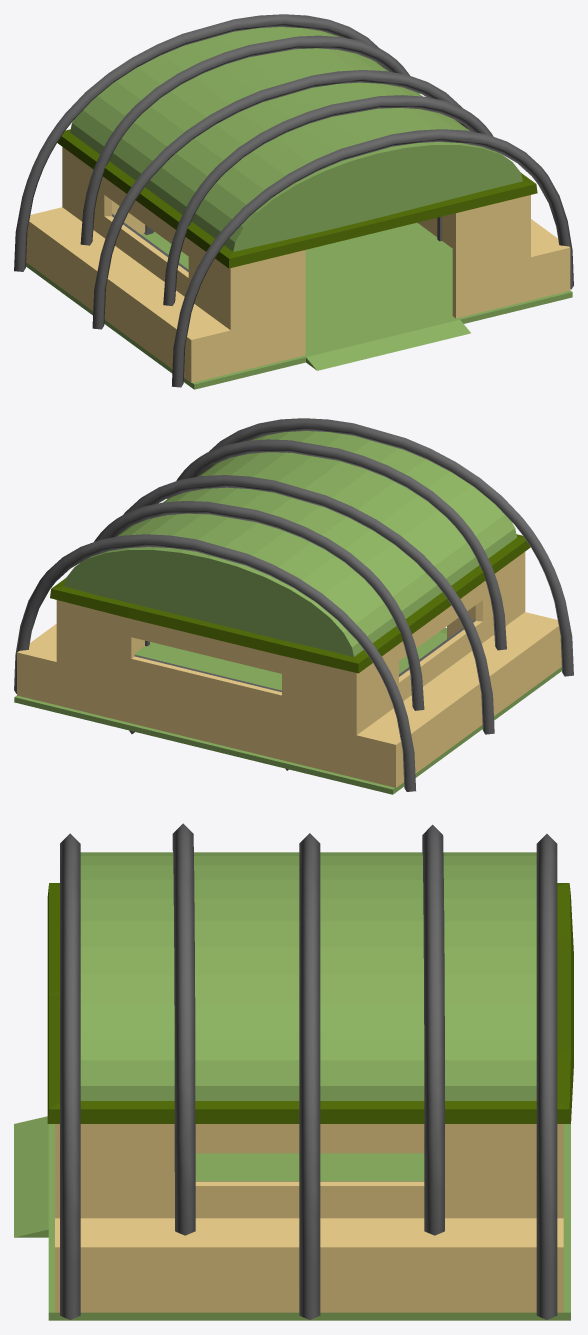
File: HANGAR LODfbx.fbx
3 views of the same model, one above another, from view 1: azimuth 30°, elevation 25°; view 2: azimuth 150°, elevation 25°; view 3: azimuth 270°, elevation 25° (orthographic). The views are drawn at different scales.
Parts seen in each view (by area): view 1: HANGAR_LOD0; view 2: HANGAR_LOD0; view 3: HANGAR_LOD0.
Boxes of the visible parts, x1=… form: HANGAR_LOD0: x1=14, y1=14, x2=573, y2=389; HANGAR_LOD0: x1=14, y1=418, x2=573, y2=794; HANGAR_LOD0: x1=14, y1=823, x2=573, y2=1320.
Size of what is drawn, in the model's own units: 1694 by 870 by 1353.
